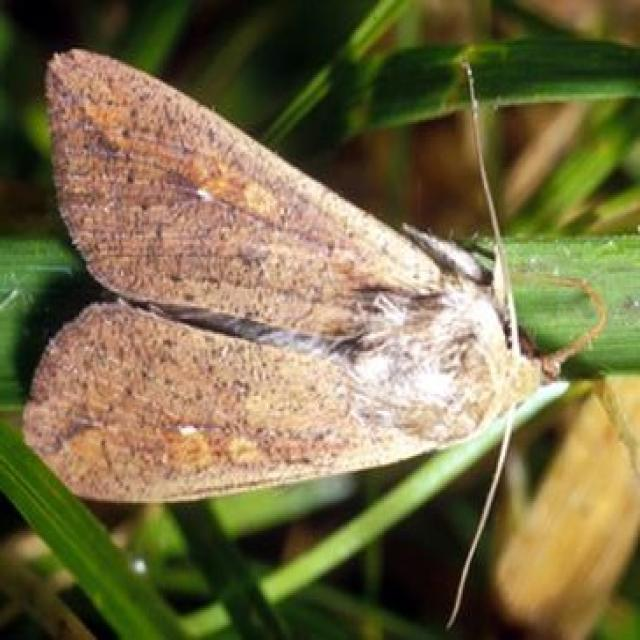army worm: (24, 45, 560, 531)
